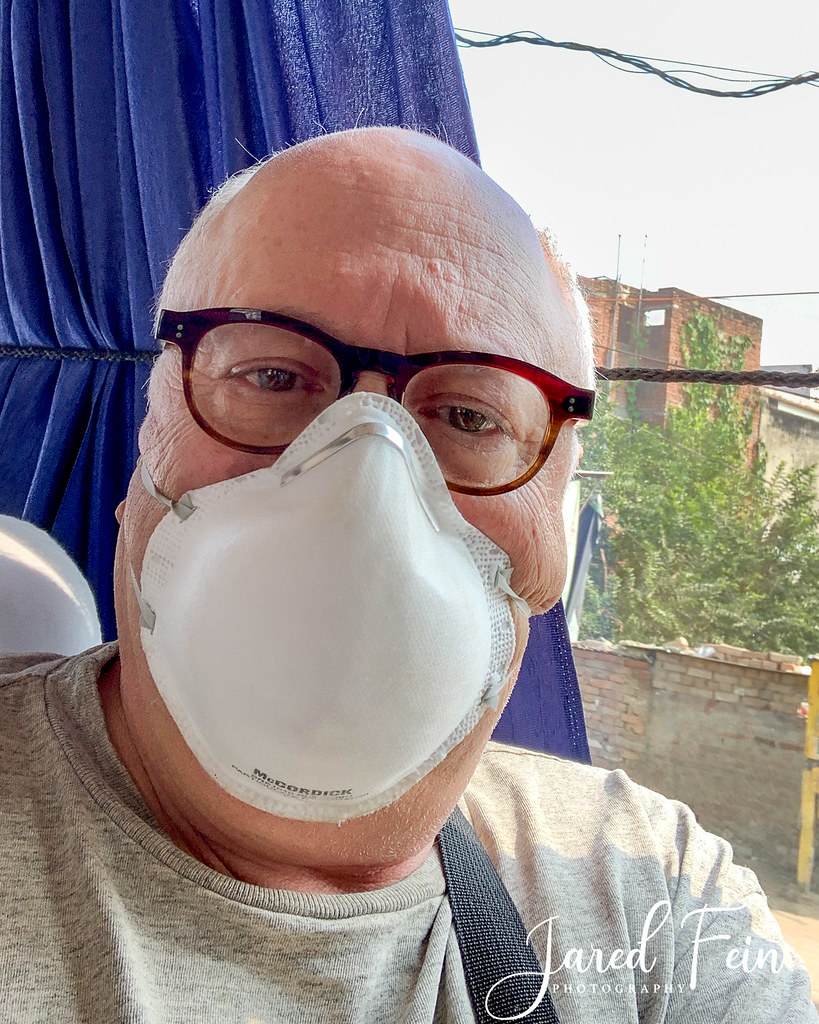n95: (123, 390, 536, 834)
